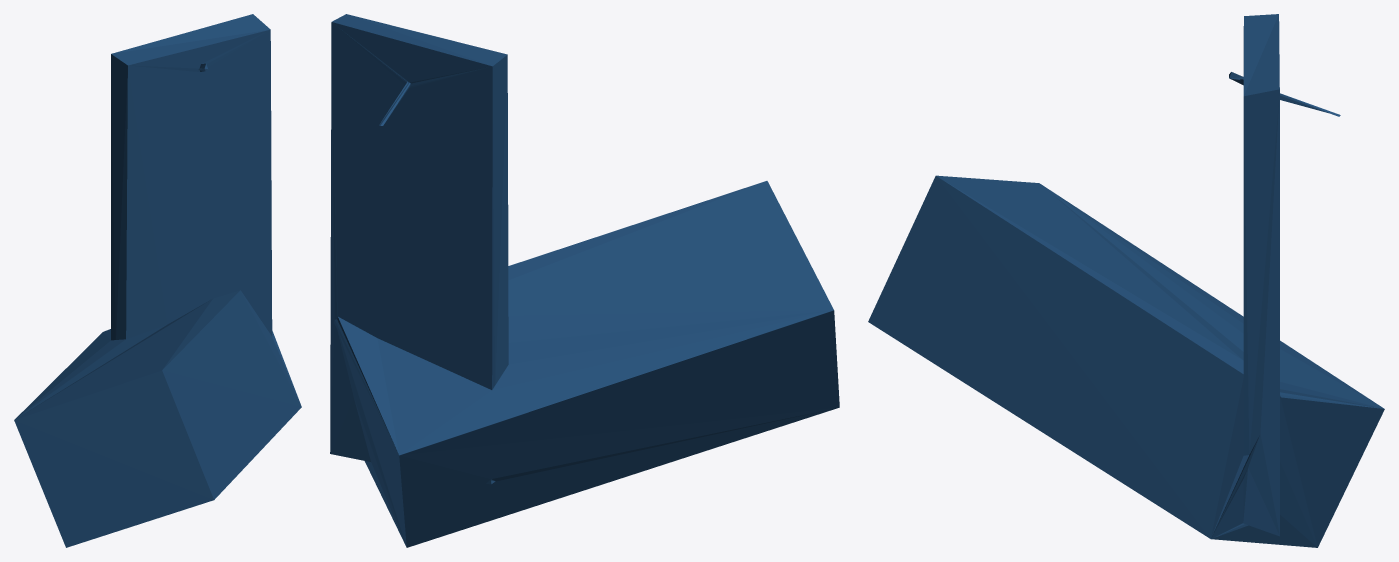
3 renders of one model, left to right at view 1: azimuth 30°, elevation 25°; view 2: azimuth 150°, elevation 25°; view 3: azimuth 270°, elevation 25°, orthographic. The views are drawn at different scales.
Visible parts, largest first — view 1: 982_Cube.3961; view 2: 982_Cube.3961; view 3: 982_Cube.3961.
Part boxes in pixels (x1,y1,x2,y2): 982_Cube.3961: [14, 14, 301, 547]; 982_Cube.3961: [330, 14, 839, 547]; 982_Cube.3961: [868, 14, 1384, 547].
Size of the model in its own units: 12.21 by 14 by 12.97.
